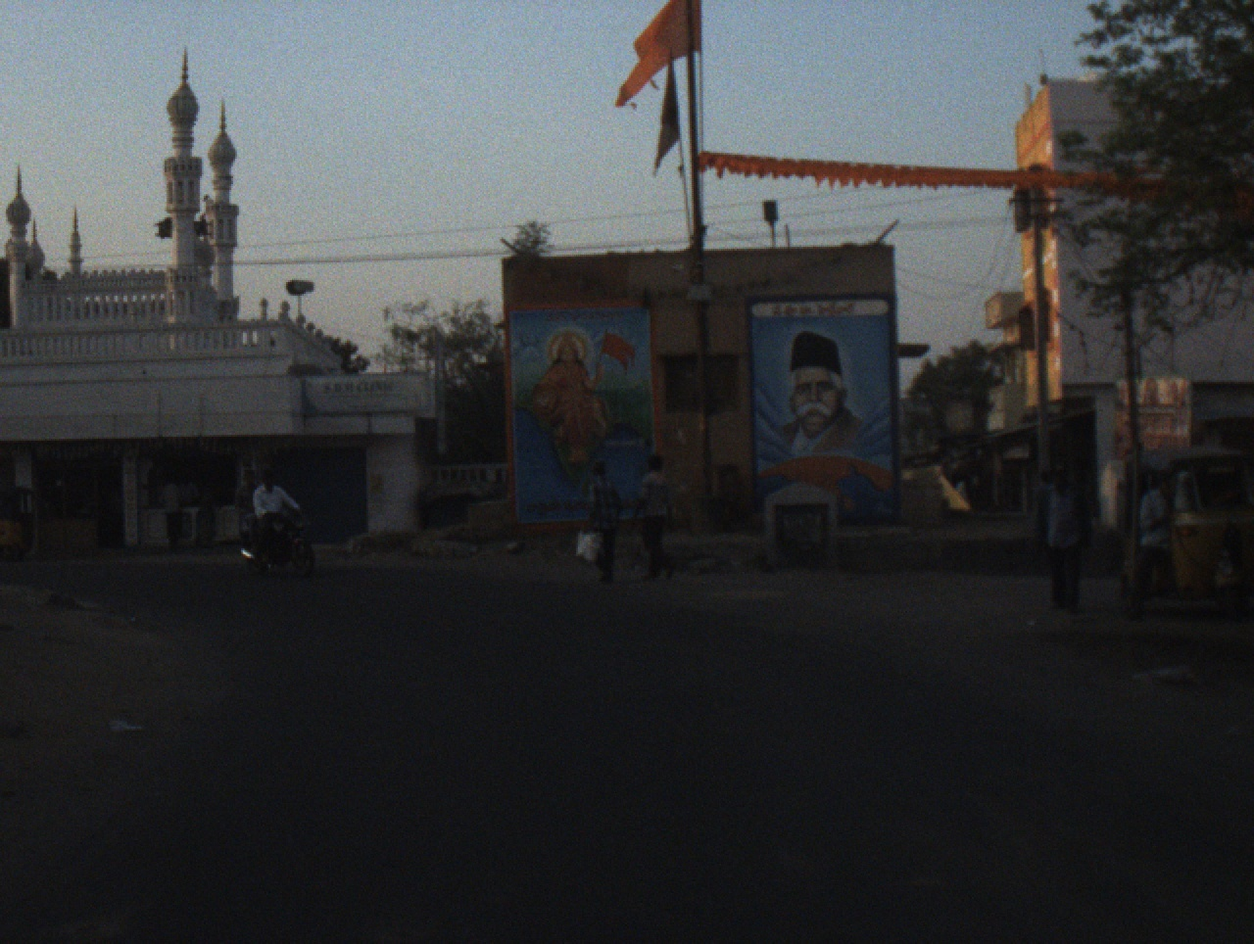autorickshaw: (1113, 439, 1254, 628)
motorcycle: (231, 515, 318, 585)
person: (1034, 456, 1096, 610), (565, 457, 621, 580), (630, 452, 682, 580), (156, 468, 188, 545), (191, 472, 217, 545)
rider: (254, 477, 304, 540)
